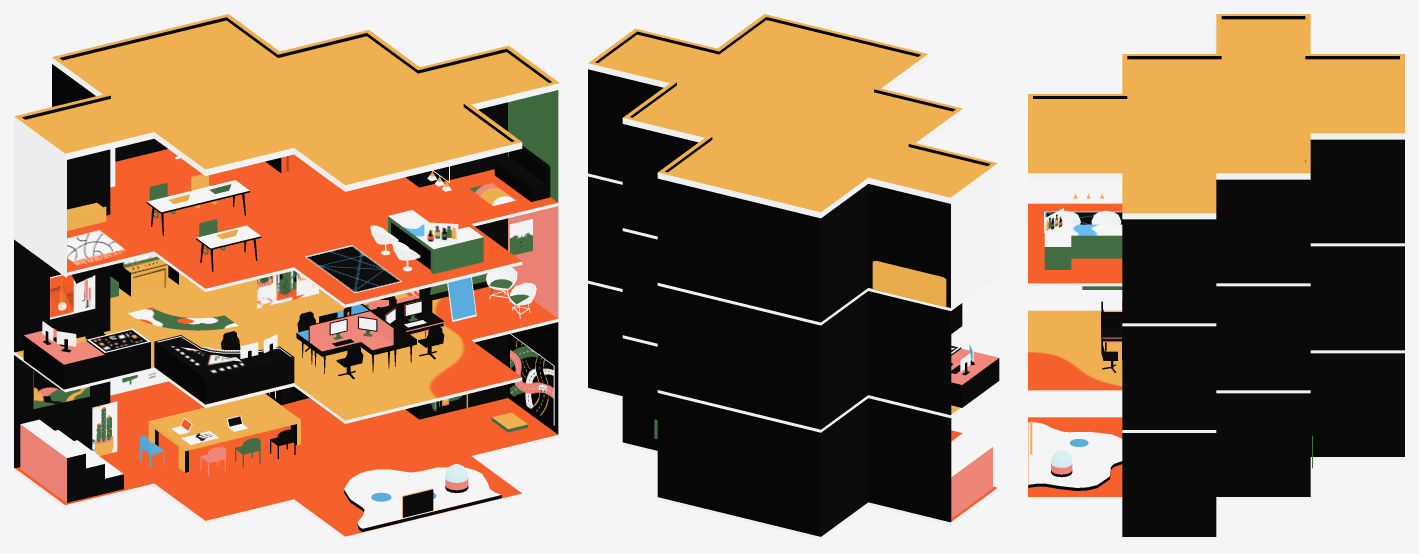
3 views of the same model, side by side, from view 1: azimuth 30°, elevation 25°; view 2: azimuth 150°, elevation 25°; view 3: azimuth 270°, elevation 25° (orthographic). The views are drawn at different scales.
Parts seen in each view (by area): view 1: building, galss, desk, bigstage, step, meeting_table, floor, bar_table, screen, table_9, carpet, sofa_2 (+18 smaller); view 2: building, galss, step, sofa, floor; view 3: building, bigstage, bar_table, table_9_1, container.
Boxes of the visible parts, x1=… form: building: x1=14, y1=14, x2=559, y2=539; galss: x1=14, y1=121, x2=66, y2=277; desk: x1=154, y1=335, x2=294, y2=404; bigstage: x1=344, y1=467, x2=501, y2=531; step: x1=20, y1=419, x2=123, y2=502; meeting_table: x1=148, y1=393, x2=300, y2=472; floor: x1=23, y1=328, x2=150, y2=389; bar_table: x1=388, y1=210, x2=483, y2=273; screen: x1=510, y1=333, x2=554, y2=425; table_9: x1=309, y1=310, x2=394, y2=373; carpet: x1=305, y1=245, x2=401, y2=293; sofa_2: x1=494, y1=146, x2=550, y2=201; building: x1=588, y1=14, x2=997, y2=539; galss: x1=951, y1=166, x2=999, y2=310; step: x1=951, y1=442, x2=992, y2=518; sofa: x1=872, y1=261, x2=946, y2=307; floor: x1=951, y1=348, x2=999, y2=407; building: x1=1028, y1=14, x2=1404, y2=539; bigstage: x1=1028, y1=422, x2=1122, y2=490; bar_table: x1=1044, y1=224, x2=1122, y2=269; table_9_1: x1=1101, y1=312, x2=1122, y2=359; container: x1=1051, y1=450, x2=1072, y2=477.
Size of the model in its own units: 1405 by 1070 by 1119.
